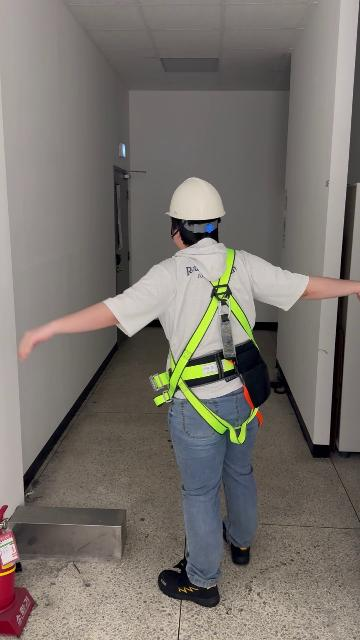helmet_worn: (164, 176, 228, 222)
shoe_worn: (158, 558, 219, 607), (224, 522, 250, 565)
vest_worn: (150, 254, 267, 437)
